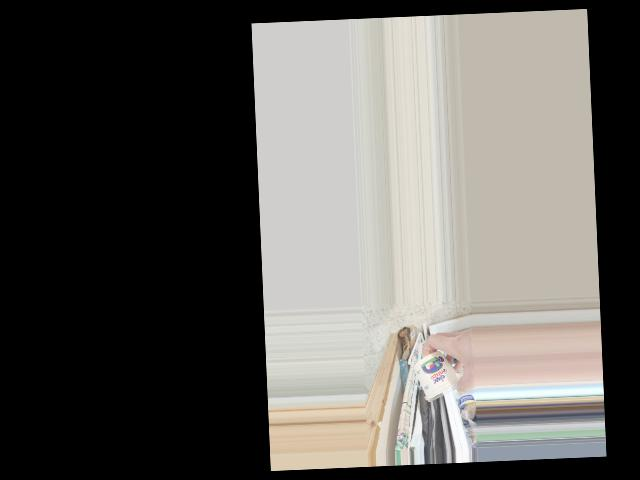cotage: (413, 352, 459, 403)
